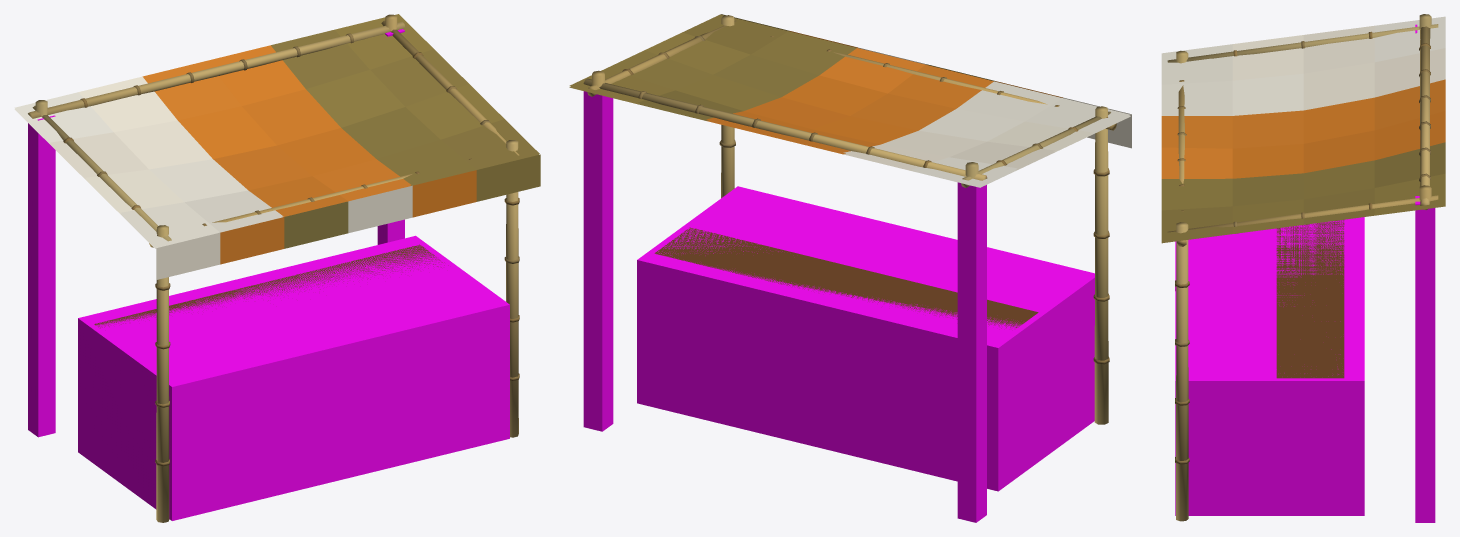
The model's file is ENV_Market_Stall_B.glb.
3 views of the same model, side by side, from view 1: azimuth 30°, elevation 25°; view 2: azimuth 150°, elevation 25°; view 3: azimuth 270°, elevation 25° (orthographic). The views are drawn at different scales.
Parts seen in each view (by area): view 1: COL_Counter, ENV_Market_Stall_B_Canopy, ENV_Market_Stall_B_Frame, COL_Post_-1, COL_Post_1; view 2: COL_Counter, ENV_Market_Stall_B_Canopy, ENV_Market_Stall_B_Frame, COL_Post_1, COL_Post_-1; view 3: ENV_Market_Stall_B_Canopy, COL_Counter, ENV_Market_Stall_B_Frame, COL_Post_1.
Part boxes in pixels (box(x1,y1,x2,y2)): COL_Counter: box(78, 235, 509, 520); ENV_Market_Stall_B_Canopy: box(14, 14, 540, 279); ENV_Market_Stall_B_Frame: box(28, 14, 519, 522); COL_Post_-1: box(28, 115, 55, 437); COL_Post_1: box(377, 29, 404, 244); COL_Counter: box(637, 186, 1094, 491); ENV_Market_Stall_B_Canopy: box(569, 14, 1131, 187); ENV_Market_Stall_B_Frame: box(583, 15, 1116, 424); COL_Post_1: box(583, 91, 613, 431); COL_Post_-1: box(957, 182, 986, 522); ENV_Market_Stall_B_Canopy: box(1161, 16, 1445, 243); COL_Counter: box(1175, 217, 1364, 515); ENV_Market_Stall_B_Frame: box(1167, 14, 1438, 521); COL_Post_1: box(1415, 196, 1435, 522).
Bounding box in the file's own units: 3.3 × 2.7 × 2.11.
